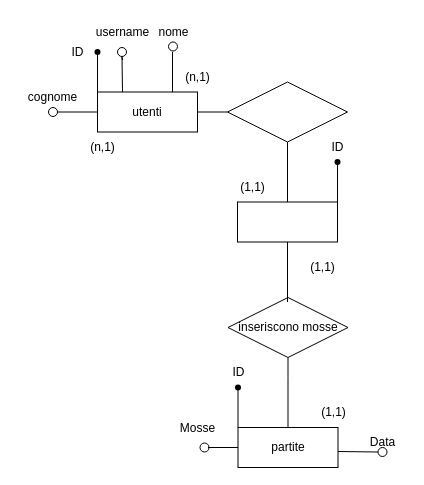
This 424x485 diagram has some shape labels left out. Here are the shapes that lost their labels. From the top down, the centre of each, then its label:
At pixel 287 111: "creano".
At pixel 287 221: "partite disponibili".
